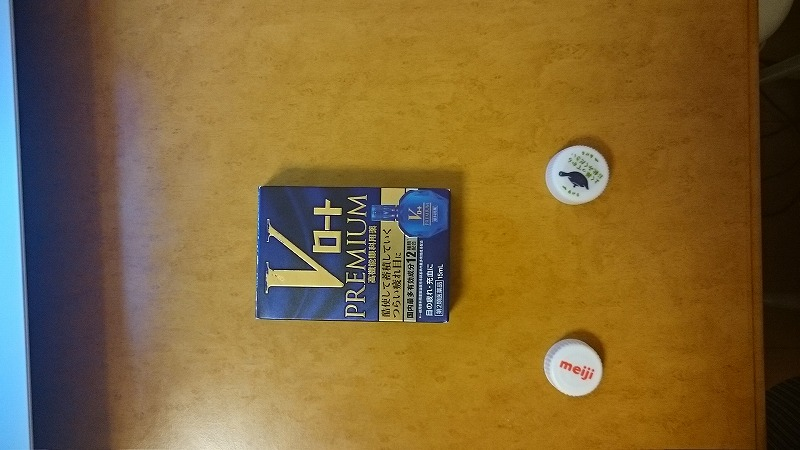A: (543, 145, 615, 213)
B: (529, 334, 609, 401)
D: (252, 184, 456, 328)
